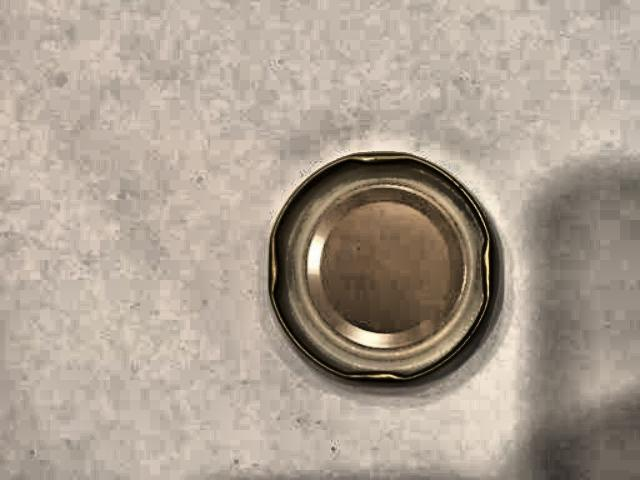Almennt: (261, 116, 520, 411)
